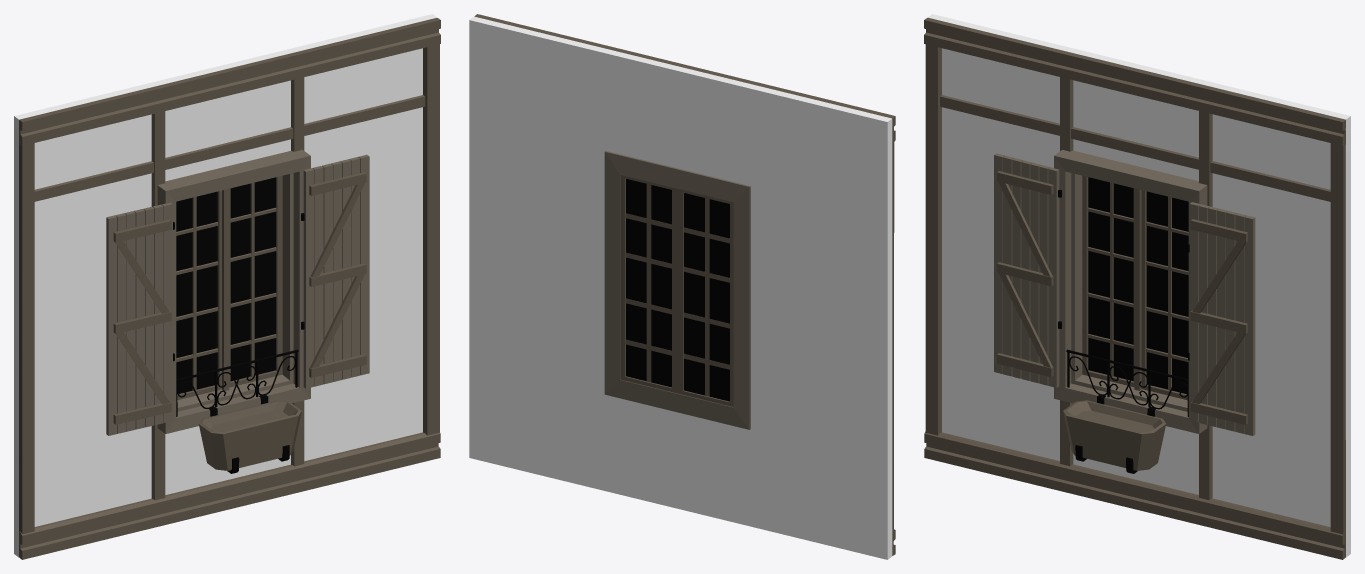
Rendered from WINDOW_05_1.fbx.
3 views of the same model, side by side, from view 1: azimuth 30°, elevation 25°; view 2: azimuth 150°, elevation 25°; view 3: azimuth 330°, elevation 25° (orthographic).
Parts seen in each view (by area): view 1: WINDOW_05_1; view 2: WINDOW_05_1; view 3: WINDOW_05_1.
Boxes of the visible parts, left/top/right/bottom form: WINDOW_05_1: left=14, top=14, right=440, bottom=559; WINDOW_05_1: left=469, top=14, right=895, bottom=559; WINDOW_05_1: left=924, top=14, right=1350, bottom=559.
Size of the model in its own units: 300 by 300 by 49.06.
